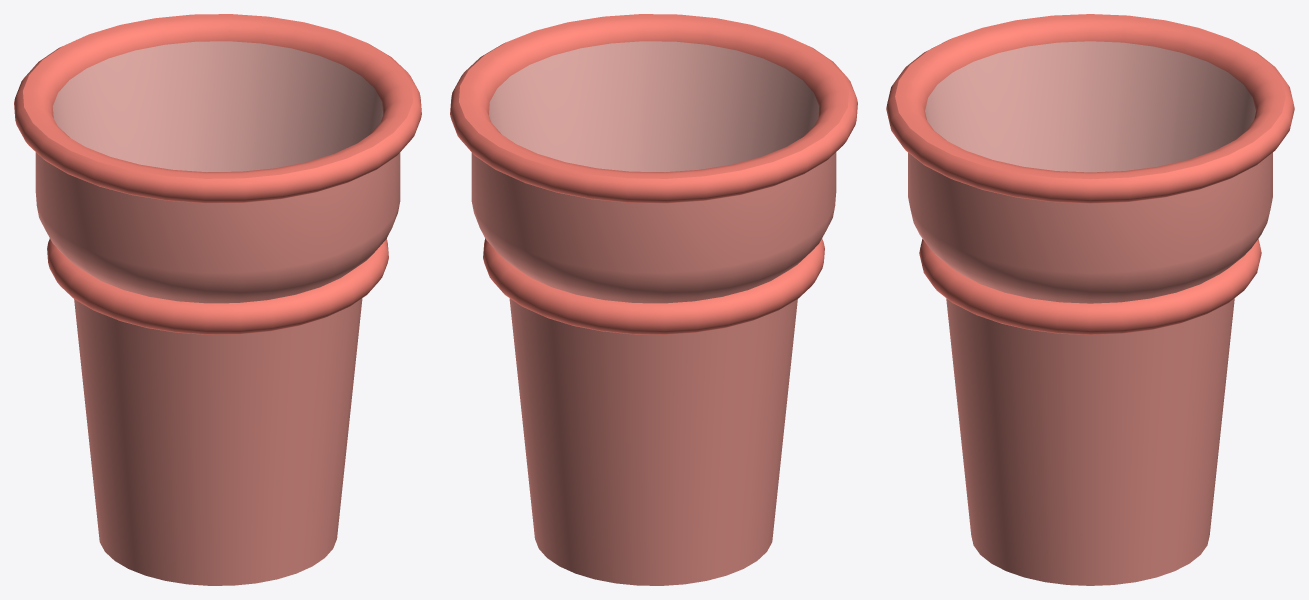
The model's file is Cone Ice Cream H.fbx.
3 views of the same model, side by side, from view 1: azimuth 30°, elevation 25°; view 2: azimuth 150°, elevation 25°; view 3: azimuth 270°, elevation 25° (orthographic).
Parts seen in each view (by area): view 1: Cone Ice Cream H; view 2: Cone Ice Cream H; view 3: Cone Ice Cream H.
Boxes of the visible parts, x1,y1,x2,y2 form: Cone Ice Cream H: (14, 14, 421, 585); Cone Ice Cream H: (450, 14, 857, 585); Cone Ice Cream H: (886, 14, 1294, 585).
Bounding box in the file's own units: 0.4902 × 0.5815 × 0.4902.
